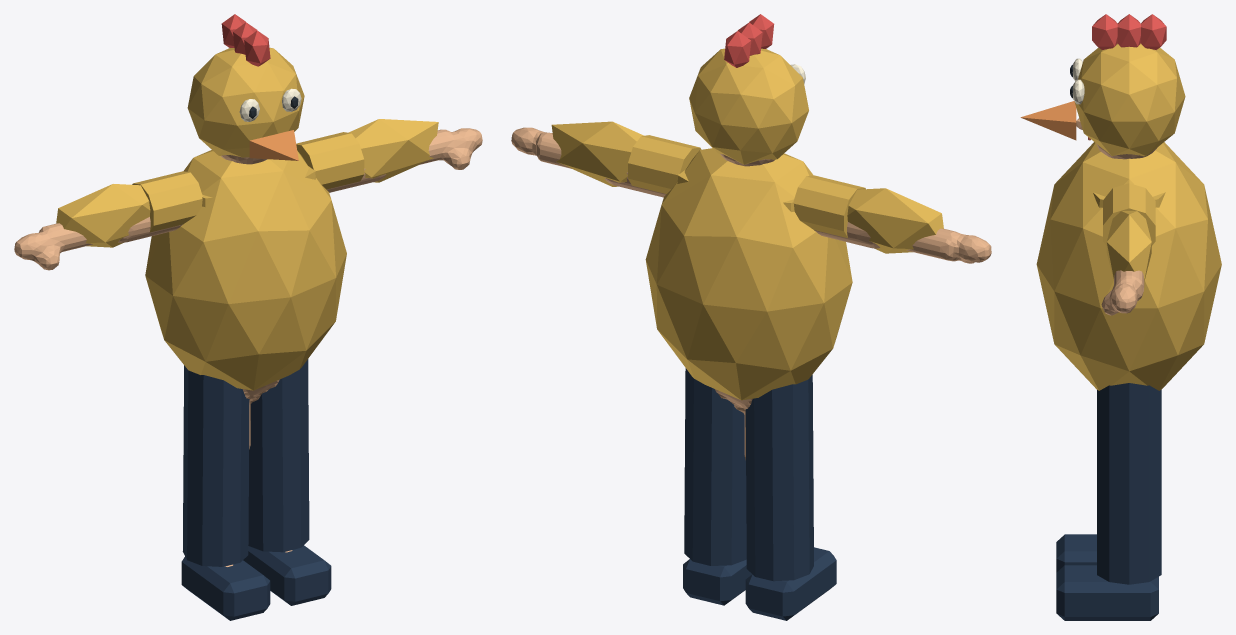
The model's file is Disguise_Chicken.fbx.
3 views of the same model, side by side, from view 1: azimuth 30°, elevation 25°; view 2: azimuth 150°, elevation 25°; view 3: azimuth 270°, elevation 25° (orthographic). The views are drawn at different scales.
Parts seen in each view (by area): view 1: ChickenBody, Disguise_Chicken_Wearer_PantsLeg, Disguise_Chicken_Wearer_PantsLeg.001, ChickenHood, Disguise_Chicken_Wearer_Civilian_01_Base_BaseMale_TPose_Body, CostumeWing, Disguise_Chicken_Wearer_Shoe, CostumeWing.001, Disguise_Chicken_Wearer_Shoe.001, Disguise_Chicken_Wearer_Sleeve.001, Disguise_Chicken_Wearer_Sleeve, Beak (+1 smaller); view 2: ChickenBody, Disguise_Chicken_Wearer_PantsLeg, Disguise_Chicken_Wearer_PantsLeg.001, ChickenHood, Disguise_Chicken_Wearer_Civilian_01_Base_BaseMale_TPose_Body, CostumeWing, CostumeWing.001, Disguise_Chicken_Wearer_Shoe, Disguise_Chicken_Wearer_Sleeve.001, Disguise_Chicken_Wearer_Sleeve, Disguise_Chicken_Wearer_Shoe.001, Comb.002; view 3: ChickenBody, Disguise_Chicken_Wearer_PantsLeg.001, ChickenHood, Disguise_Chicken_Wearer_Shoe.001, CostumeWing.001, Disguise_Chicken_Wearer_Sleeve.001, Disguise_Chicken_Wearer_Civilian_01_Base_BaseMale_TPose_Body, Disguise_Chicken_Wearer_Shoe, Beak, Comb.002, Comb, Comb.001.
Part boxes in pixels (box(x1,y1,x2,y2)): ChickenBody: box(145, 150, 346, 390); Disguise_Chicken_Wearer_PantsLeg: box(182, 365, 249, 566); Disguise_Chicken_Wearer_PantsLeg.001: box(248, 359, 309, 552); ChickenHood: box(187, 47, 304, 157); Disguise_Chicken_Wearer_Civilian_01_Base_BaseMale_TPose_Body: box(14, 128, 482, 566); CostumeWing: box(56, 184, 150, 247); Disguise_Chicken_Wearer_Shoe: box(181, 556, 270, 620); CostumeWing.001: box(349, 119, 438, 182); Disguise_Chicken_Wearer_Shoe.001: box(243, 545, 331, 605); Disguise_Chicken_Wearer_Sleeve.001: box(296, 132, 364, 189); Disguise_Chicken_Wearer_Sleeve: box(132, 171, 202, 232); Beak: box(249, 130, 298, 160); ChickenBody: box(645, 148, 852, 400); Disguise_Chicken_Wearer_PantsLeg: box(745, 374, 813, 581); Disguise_Chicken_Wearer_PantsLeg.001: box(684, 368, 746, 565); ChickenHood: box(689, 48, 808, 164); Disguise_Chicken_Wearer_Civilian_01_Base_BaseMale_TPose_Body: box(511, 127, 991, 460); CostumeWing: box(847, 188, 943, 253); CostumeWing.001: box(551, 121, 643, 186); Disguise_Chicken_Wearer_Shoe: box(745, 547, 836, 620); Disguise_Chicken_Wearer_Sleeve.001: box(628, 135, 701, 193); Disguise_Chicken_Wearer_Sleeve: box(793, 175, 865, 238); Disguise_Chicken_Wearer_Shoe.001: box(683, 559, 751, 605); Comb.002: box(724, 31, 750, 67); ChickenBody: box(1036, 142, 1221, 390); Disguise_Chicken_Wearer_PantsLeg.001: box(1097, 383, 1161, 584); ChickenHood: box(1074, 43, 1185, 156); Disguise_Chicken_Wearer_Shoe.001: box(1056, 565, 1158, 620); CostumeWing.001: box(1106, 211, 1151, 280); Disguise_Chicken_Wearer_Sleeve.001: box(1103, 183, 1155, 245); Disguise_Chicken_Wearer_Civilian_01_Base_BaseMale_TPose_Body: box(1096, 143, 1157, 315); Disguise_Chicken_Wearer_Shoe: box(1056, 534, 1096, 572); Beak: box(1020, 101, 1076, 140); Comb.002: box(1141, 14, 1166, 49); Comb: box(1092, 14, 1117, 49); Comb.001: box(1117, 14, 1140, 47).
Size of the model in its own units: 1.68 by 1.95 by 0.61.
